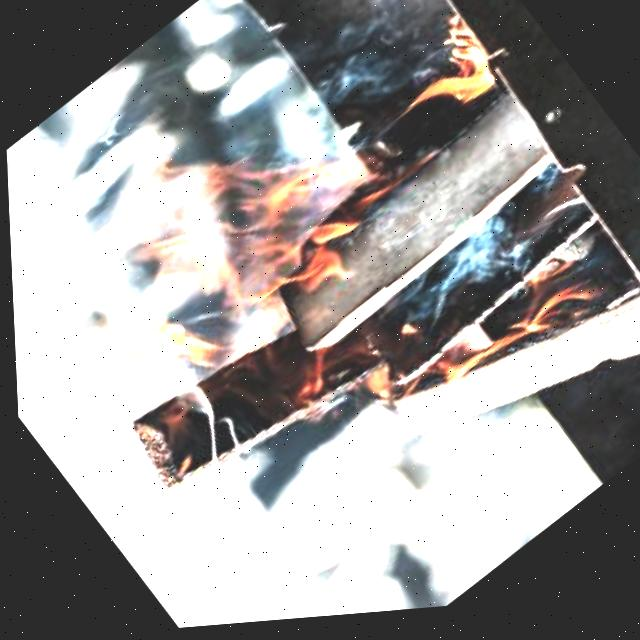Fire: (35, 0, 640, 580)
